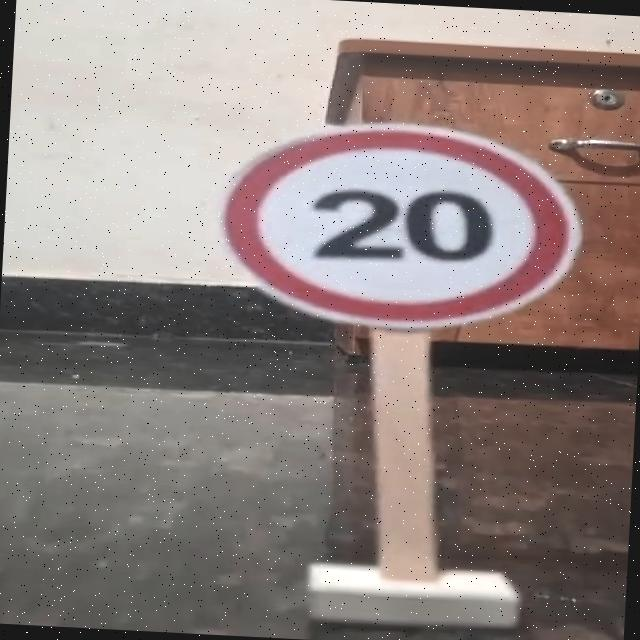Speed20: (202, 108, 602, 348)
